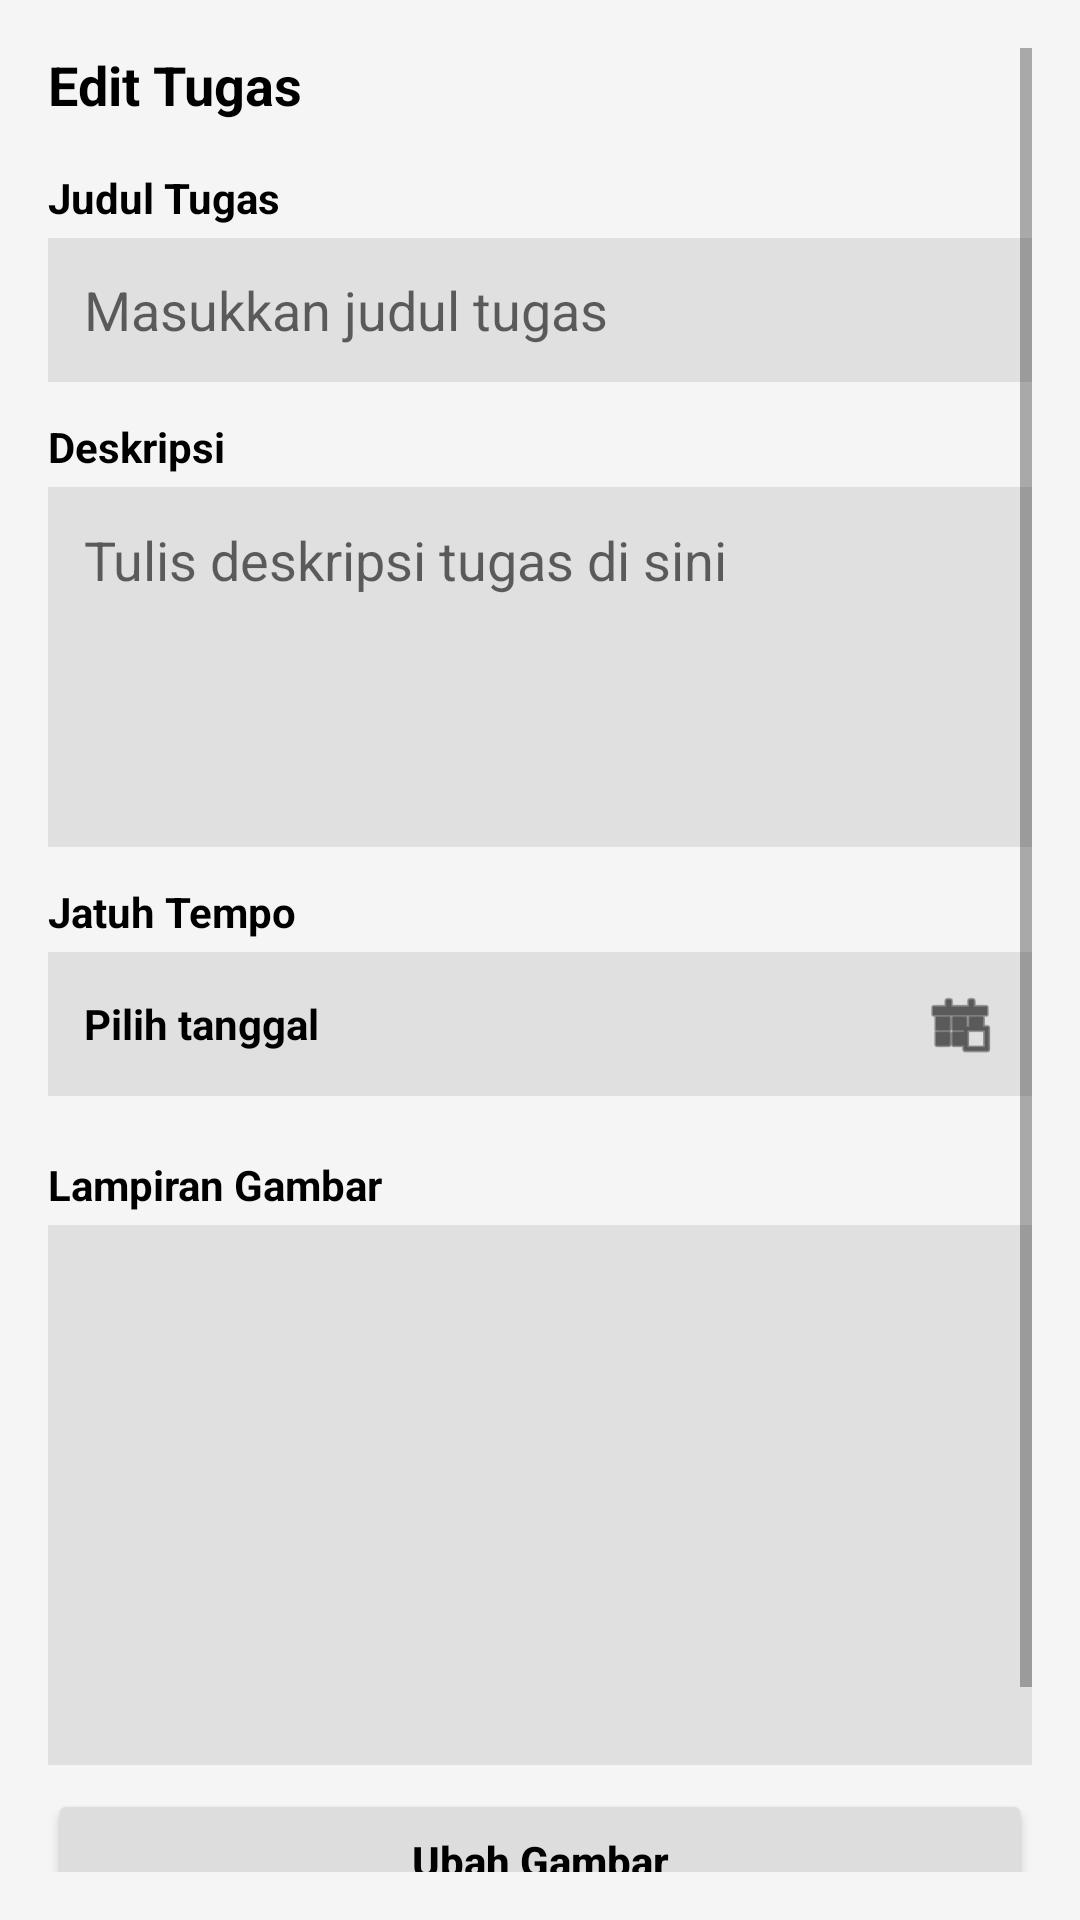

Where to tap for icons on this 1080×1920 app screen, as (x=x, y=y):
today: (x=960, y=1025)
